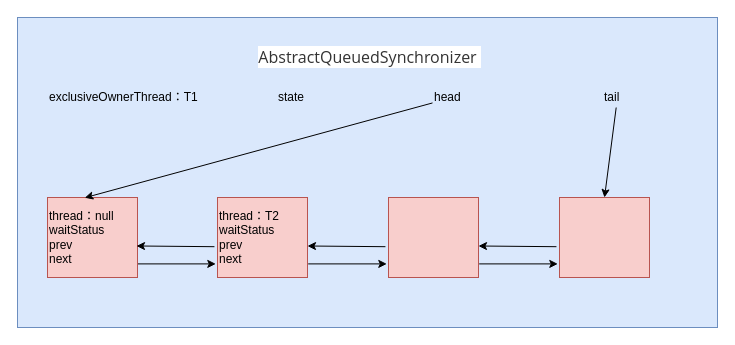
Image size: 735x345. Some labels were removed from this diagram. The shapes that lost their labels are listed below. From the top down, each one's box as (x1, y1, x2, y2) in pixels, then its label:
(388, 196, 478, 278): thread：T3 waitStatus prev next
(558, 196, 650, 278): thread：T4 waitStatus prev next
